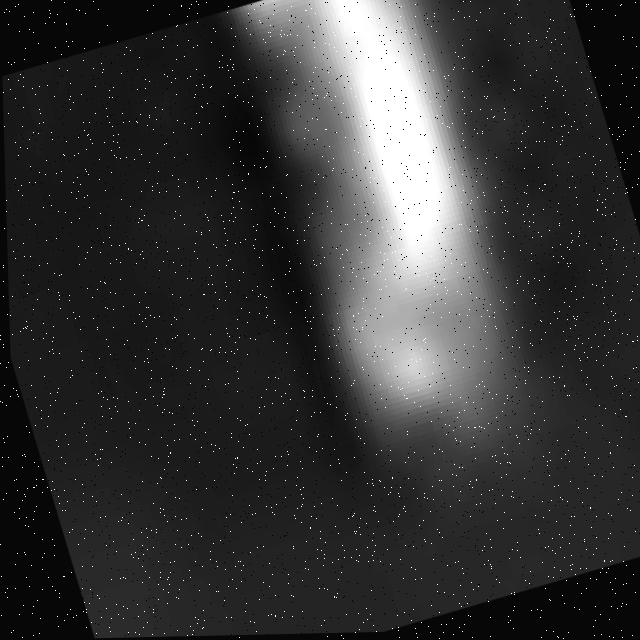person: (167, 1, 572, 547)
